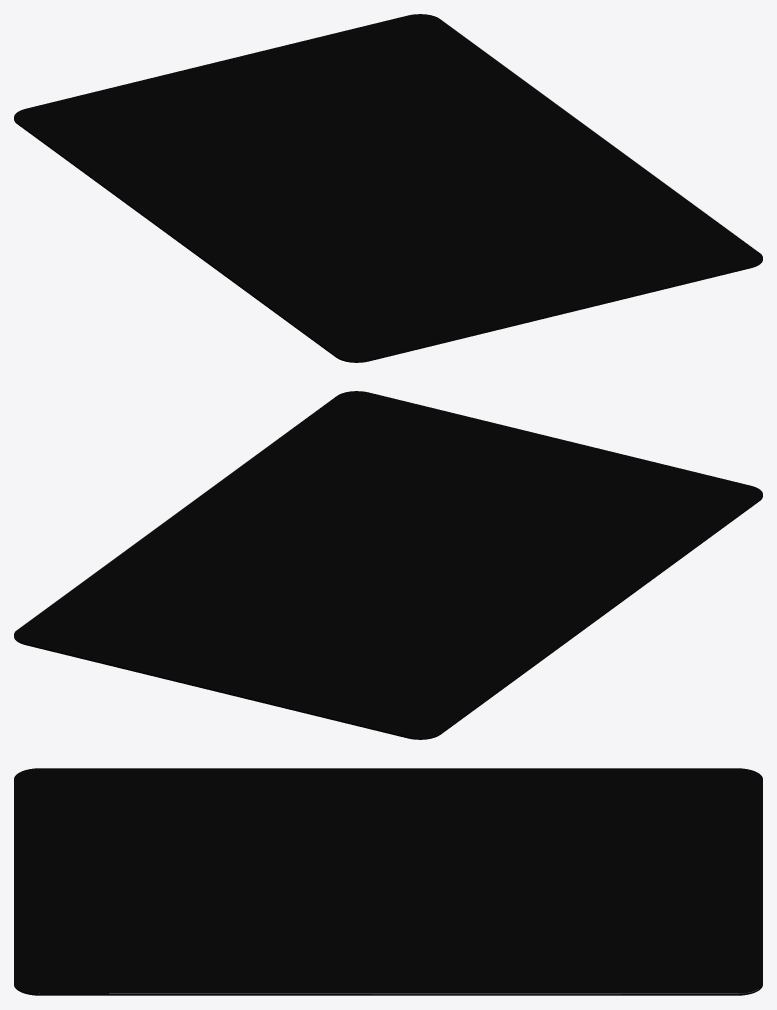
Rendered from card.glb.
3 renders of one model, top to bottom at view 1: azimuth 30°, elevation 25°; view 2: azimuth 150°, elevation 25°; view 3: azimuth 270°, elevation 25°, orthographic. The views are drawn at different scales.
Parts seen in each view (by area): view 1: Card; view 2: Card; view 3: Card.
Boxes of the visible parts, <box> form: Card: <box>14,14,762,362</box>; Card: <box>14,391,762,739</box>; Card: <box>14,768,762,995</box>.
Size of the model in its own units: 62 by 0.24 by 87.
Materials: 1 (1 with a texture image).
